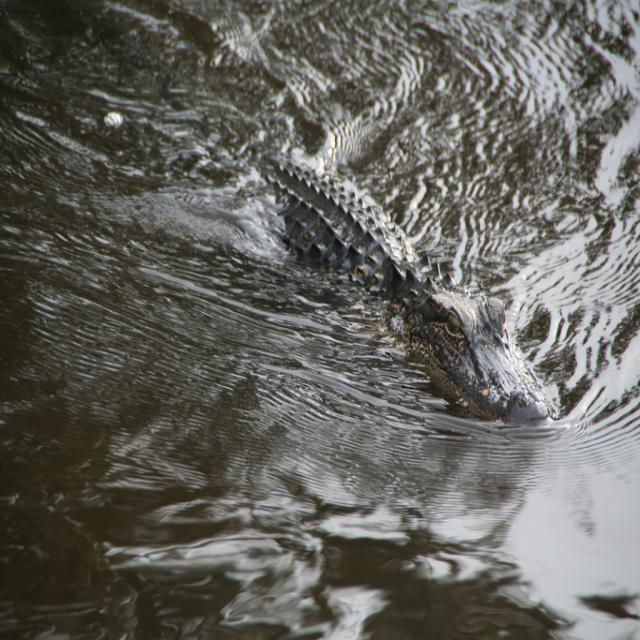crocodile: (214, 108, 572, 459)
